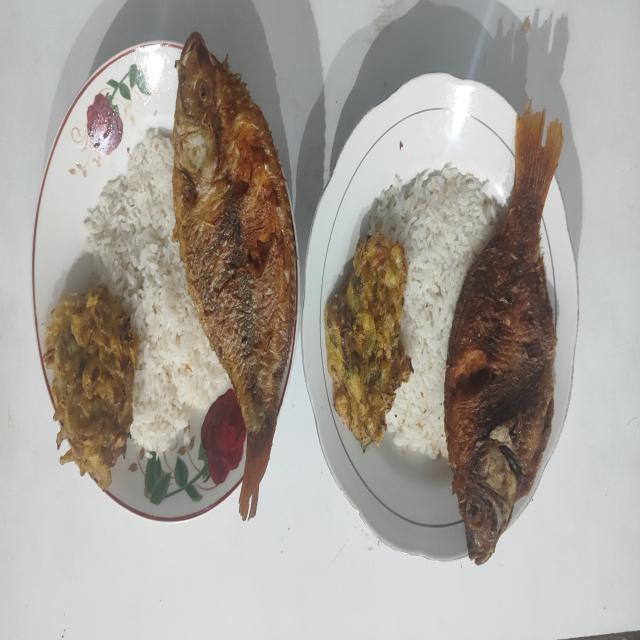ikan_mujair: (172, 33, 296, 519), (444, 102, 563, 565)
nasi_putih: (85, 128, 231, 454), (370, 163, 501, 459)
